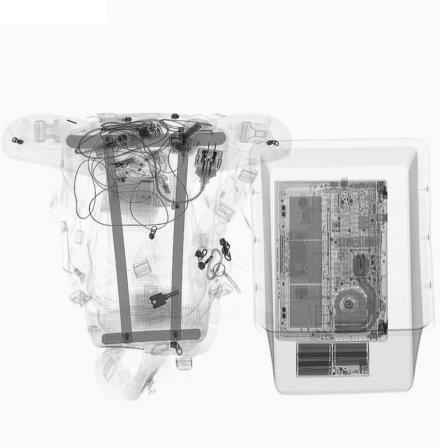Lighter: (98, 116, 131, 123)
